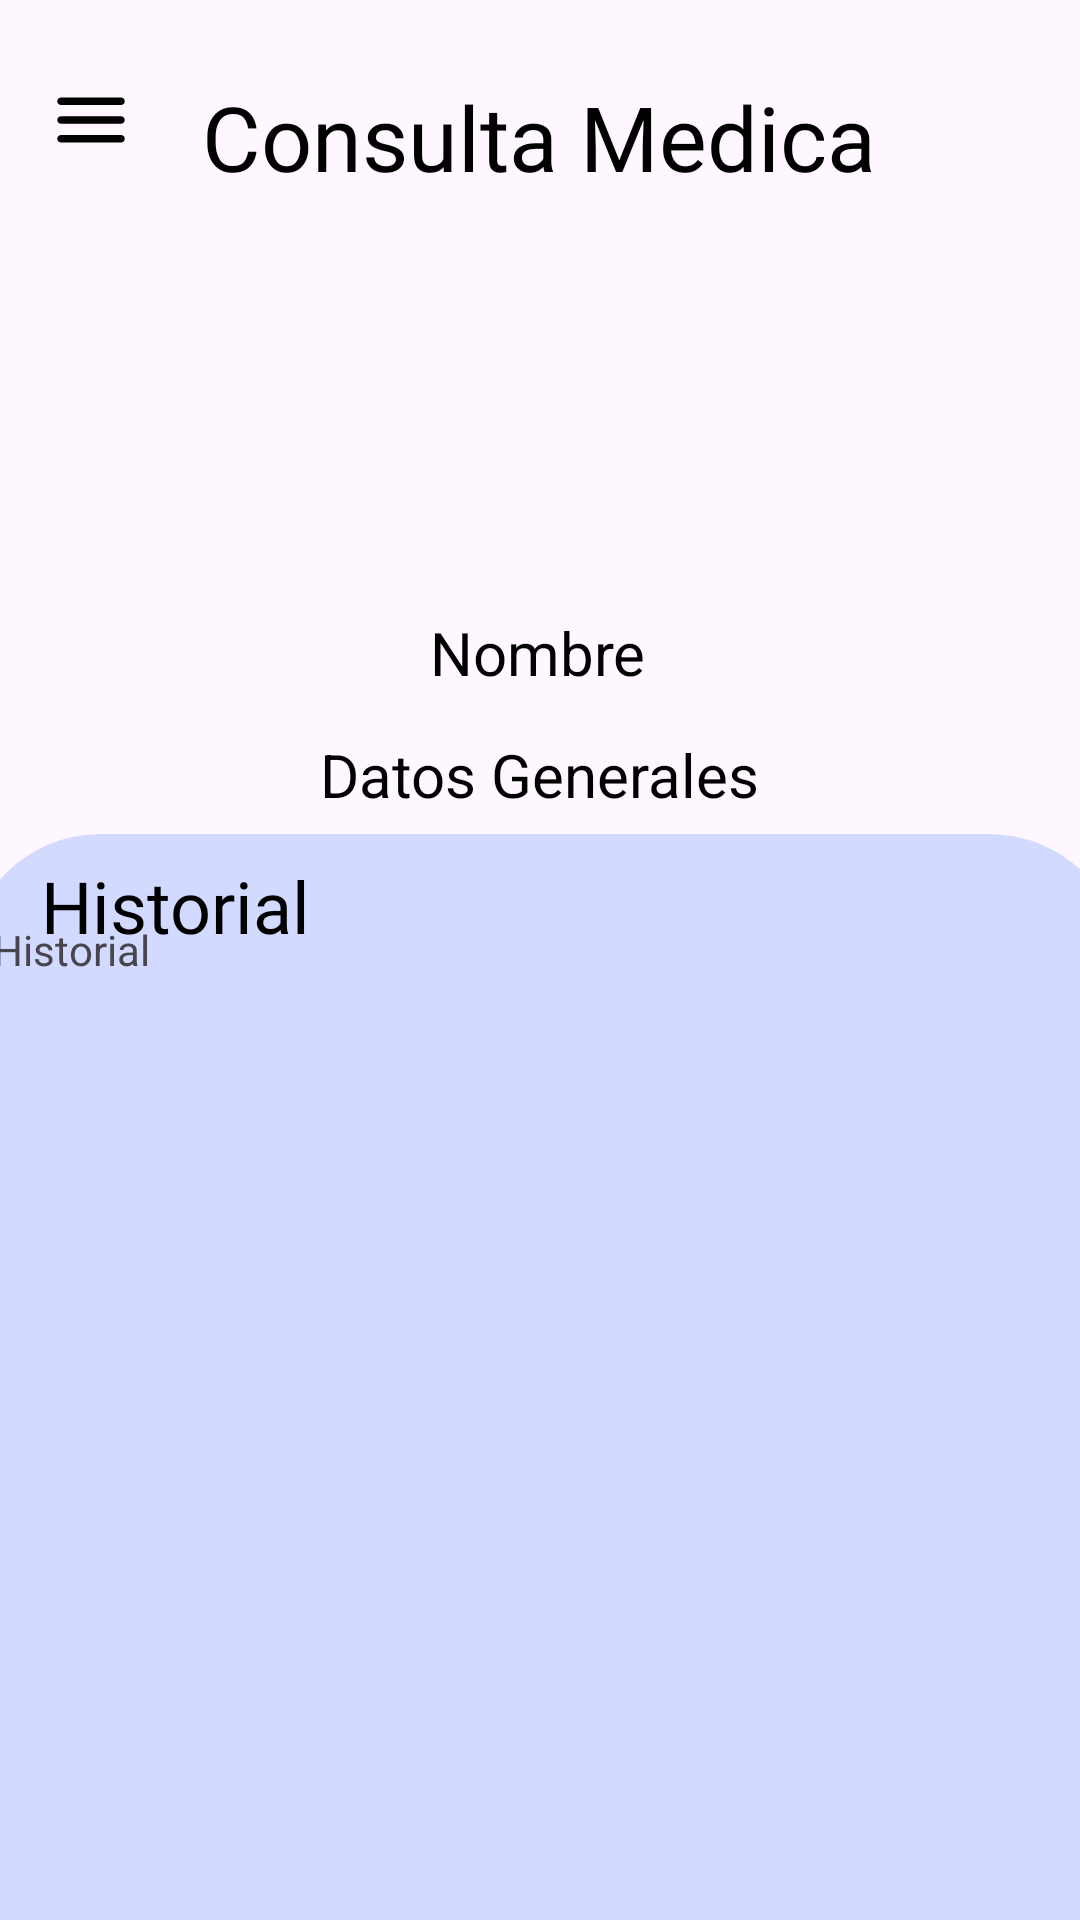

Screen size 1080px x 1920px. Icon name, then its center in pixels as [x,y]:
menu: [91,120]
